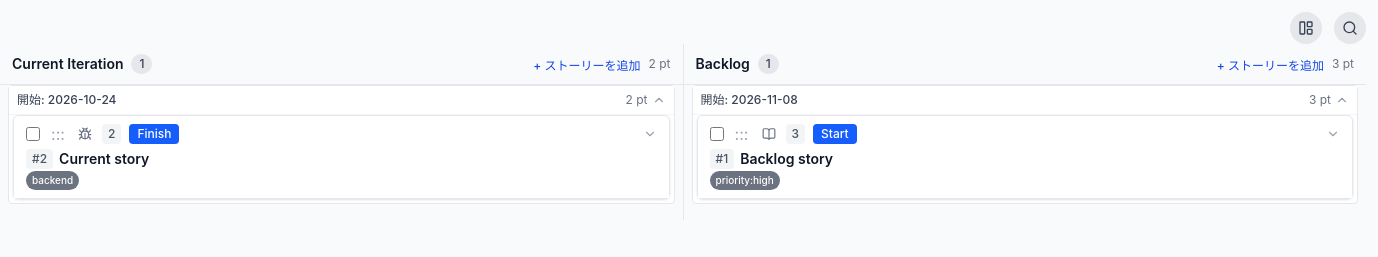
Test case: StoryMultiPanelScreen UI contracts › shows Current/Backlog by default and keeps Done/Icebox hidden
expect the text "Backlog story" is shown: met, box [740,150,833,167]
Click the button with test id "panel-actions-toggle" at (1306, 28), box [1290,12,1322,44]
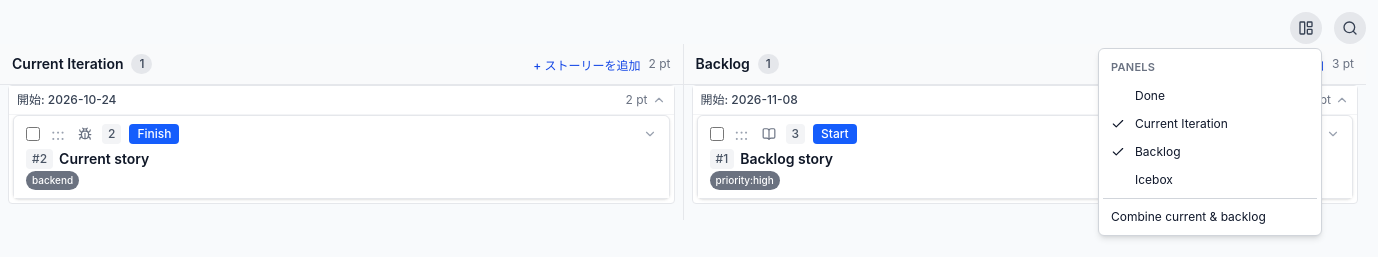
expect the menu item with test id "panel-toggle-Current" is checked: met, box [1111,116,1228,130]
expect the menu item with test id "panel-toggle-Backlog" is checked: met, box [1111,144,1180,158]
expect the menu item with test id "panel-toggle-Done" is not checked: met, box [1135,88,1165,102]
